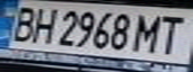2: (54, 7, 81, 47)
6: (90, 9, 115, 51)
8: (109, 10, 139, 52)
9: (72, 8, 96, 48)
B: (3, 3, 42, 43)
H: (27, 4, 60, 45)
M: (130, 10, 169, 54)
T: (151, 11, 190, 55)
